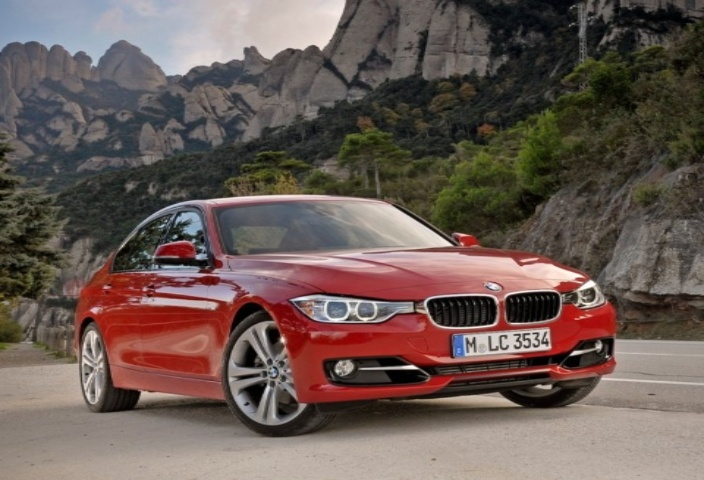car: (65, 183, 637, 439)
